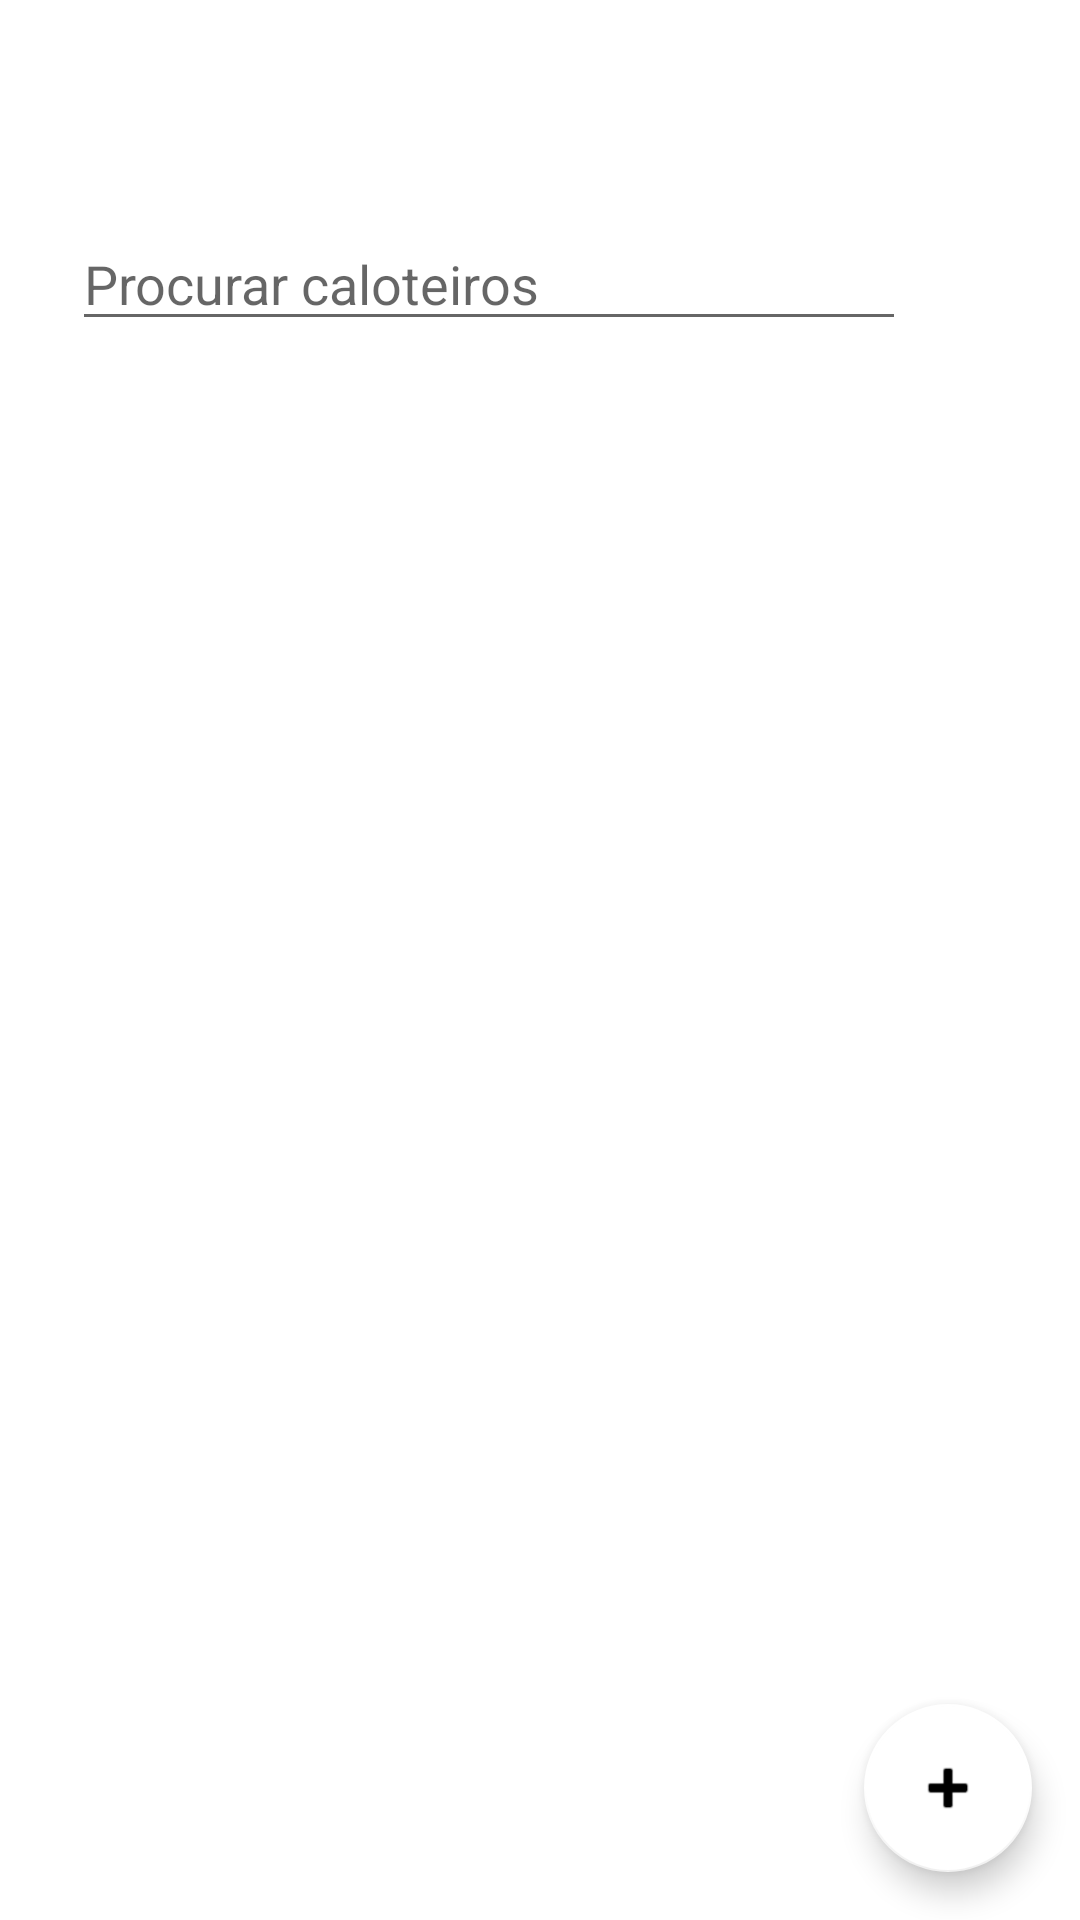

Screen size 1080×1920. Icon name, then its box in pixels as [left=x1, top=y1, right=x2, bottom=y2]:
Adicionar: [left=869, top=1768, right=1032, bottom=1872]
